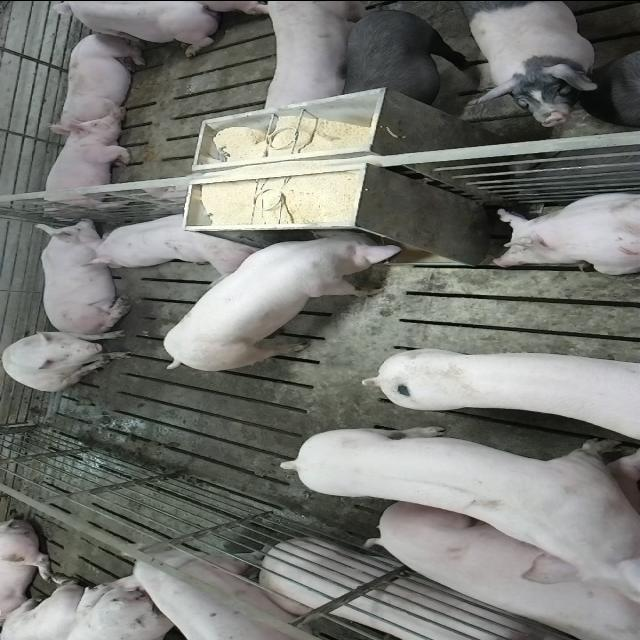Feeding: (162, 230, 406, 376)
Lateral_lying: (370, 498, 640, 640), (265, 540, 619, 640)
Sitting: (3, 328, 136, 391)
Standing: (279, 428, 637, 596), (370, 346, 640, 435), (112, 545, 334, 640), (466, 2, 602, 128), (336, 3, 472, 111), (258, 2, 368, 118), (610, 37, 640, 127)
Sternal_lying: (486, 190, 640, 274), (80, 208, 262, 270), (32, 219, 132, 329), (39, 2, 222, 56), (52, 29, 150, 129), (37, 116, 137, 214)
